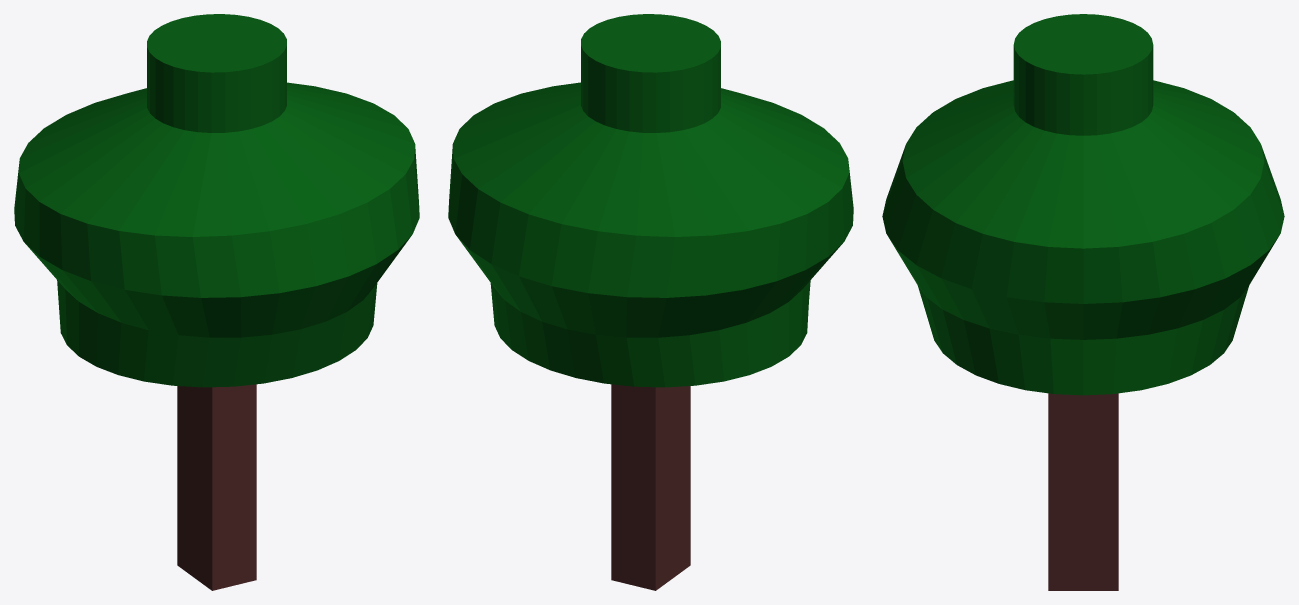
File: tree.fbx
3 renders of one model, left to right at view 1: azimuth 30°, elevation 25°; view 2: azimuth 150°, elevation 25°; view 3: azimuth 270°, elevation 25°, orthographic.
Parts seen in each view (by area): view 1: Cylinder, Cube; view 2: Cylinder, Cube; view 3: Cylinder, Cube.
Boxes of the visible parts, <box> form: Cylinder: <box>14,14,419,387</box>; Cube: <box>177,384,256,590</box>; Cylinder: <box>448,14,853,387</box>; Cube: <box>611,384,690,590</box>; Cylinder: <box>882,14,1284,395</box>; Cube: <box>1048,393,1118,590</box>.
Size of the model in its own units: 533 by 760 by 517.
